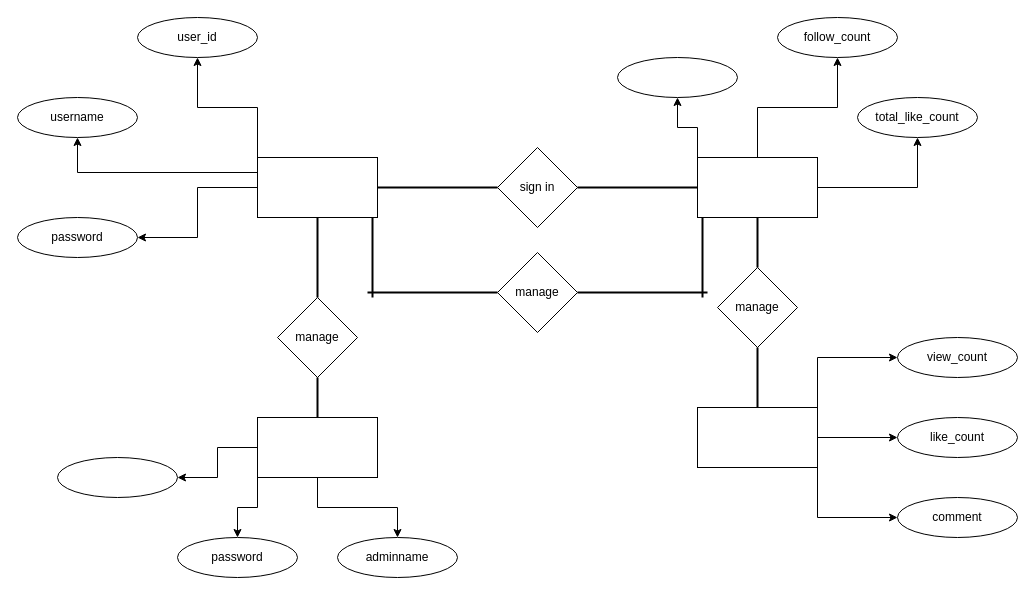
The diagram is 1035 pixels wide and 595 high, and some of its shapes have lost their labels. Here are the shapes that lost their labels. From the top down, the centre of each, then its label:
point 317,187: user
point 757,187: account
point 317,447: admin
point 757,437: video
